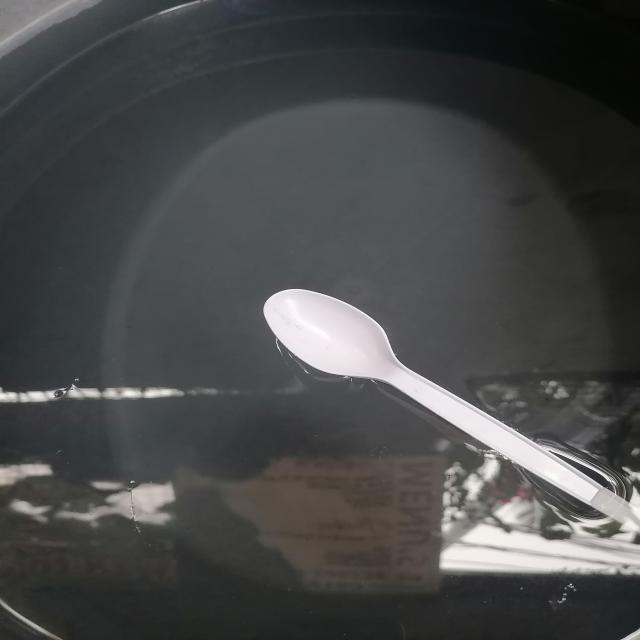Plastic Spoon: (245, 268, 640, 550)
